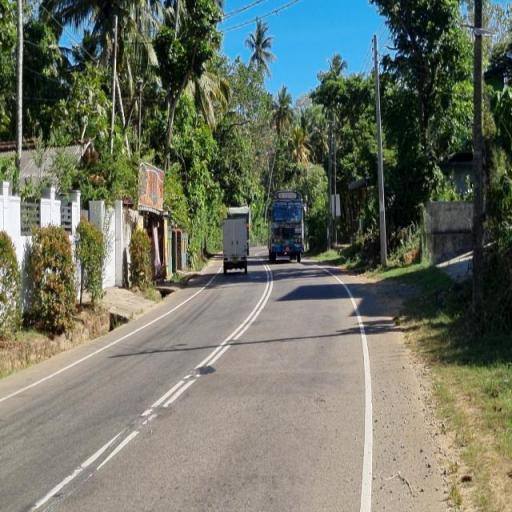double_white_line: (142, 262, 272, 424)
